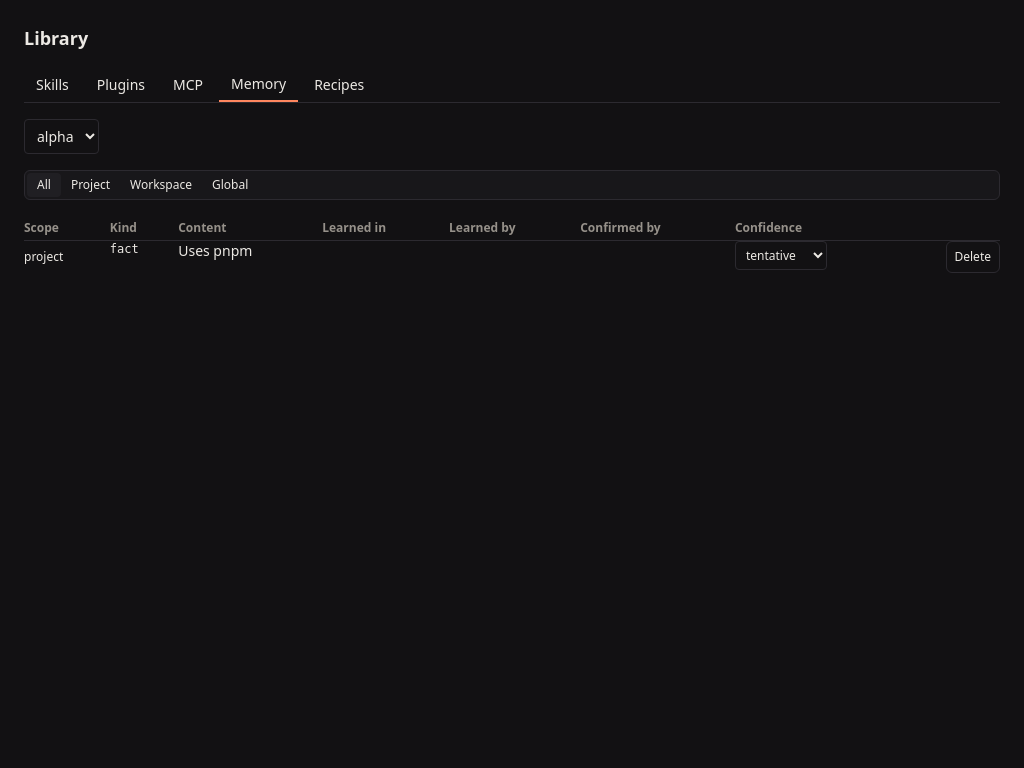
Test: Library memory › deletes after confirmation
The width and height of the screenshot is (1024, 768).
What coordinates should you click on to do the following:
click the button "Delete"
I would click on:
 (973, 257)
Its box is [946, 241, 1000, 273].
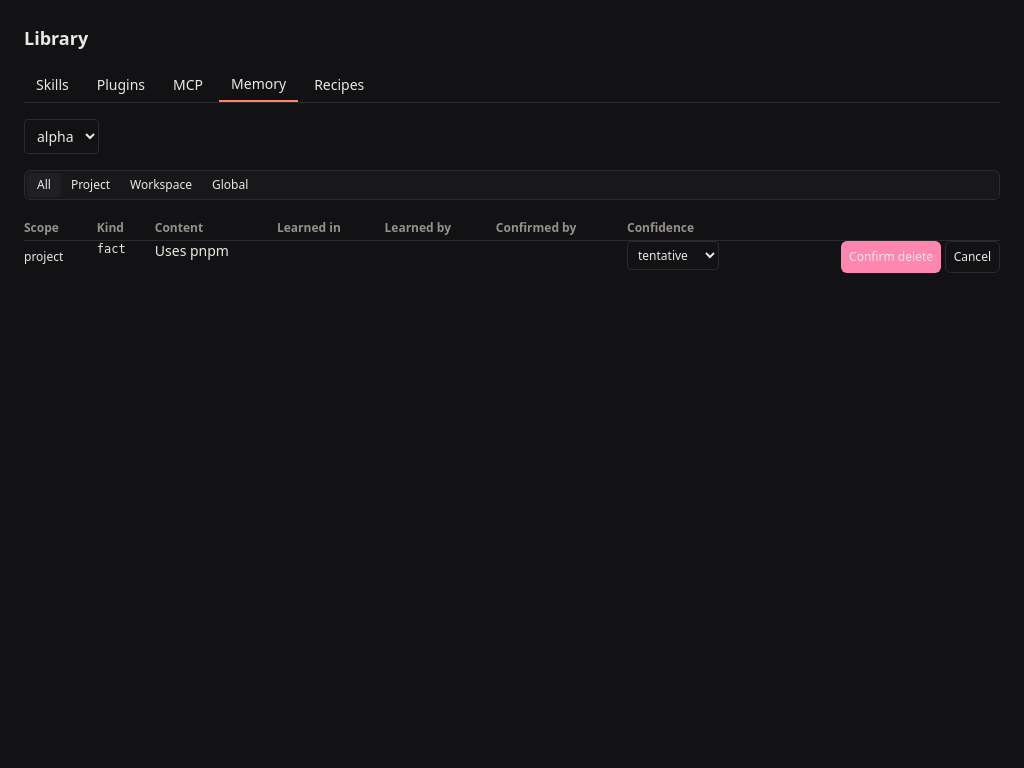
What coordinates should you click on to do the following:
click the button "Confirm delete"
I would click on:
 (891, 257)
Its box is [841, 241, 941, 273].
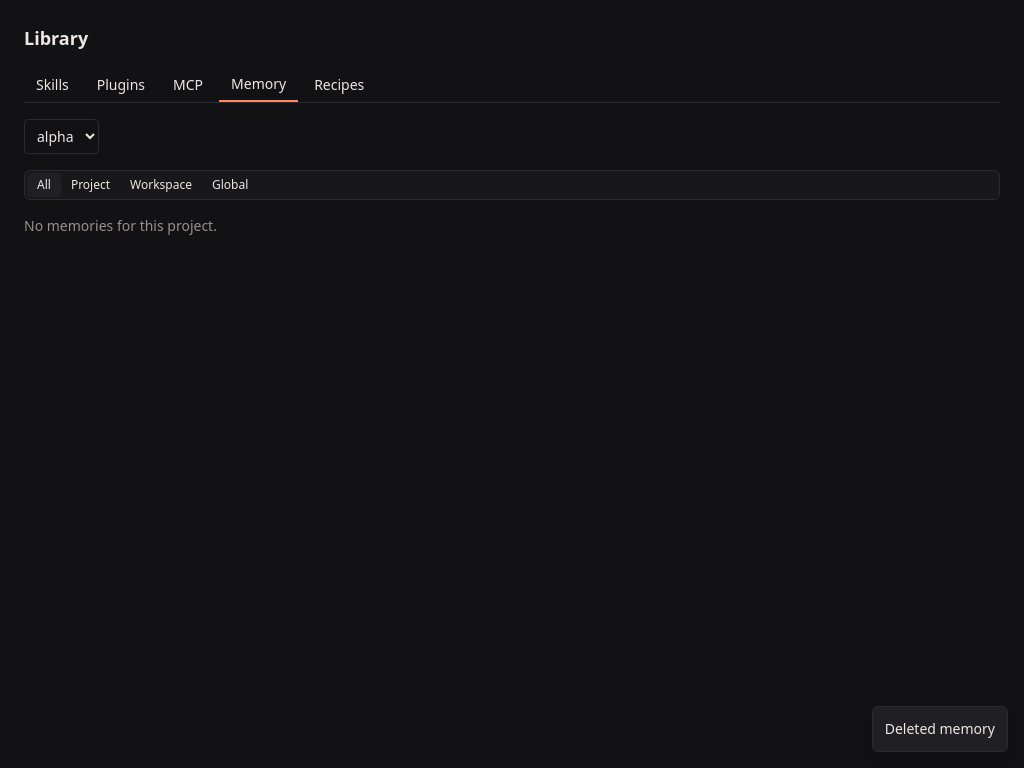
Now the row with test id "memory-row" is gone
